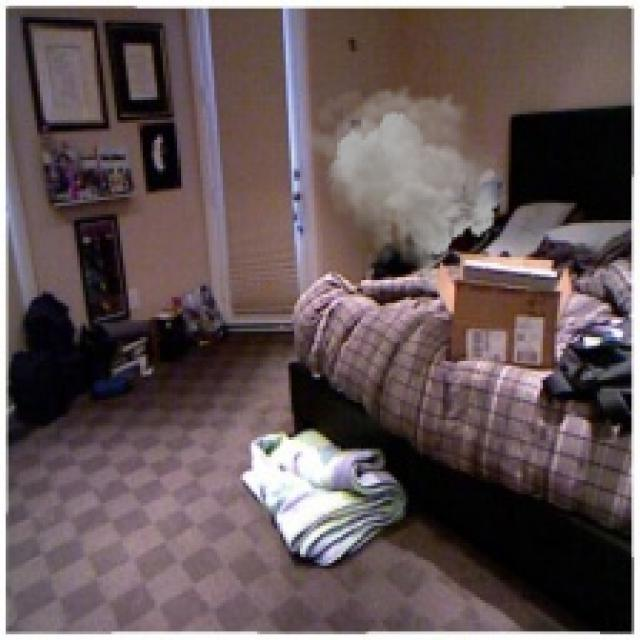smoke: (300, 83, 506, 297)
